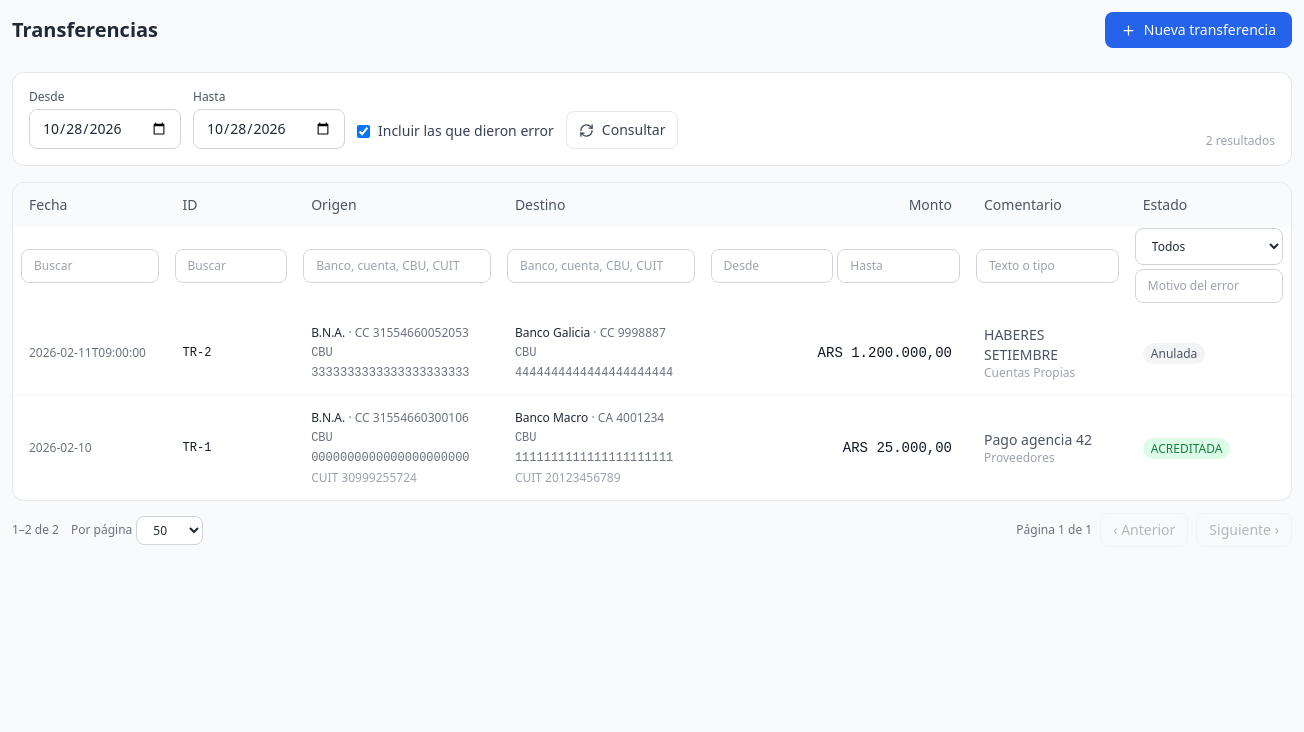
Test: TransferenciasPage — listado › filtros por columna › ID = tr-1 deja sólo TR-1
Check: the text "TR-2" is shown, box 167,311 -> 295,396
Type "tr-1" into the field named "Filtrar ID" at [231, 266], box 175,248 -> 287,282
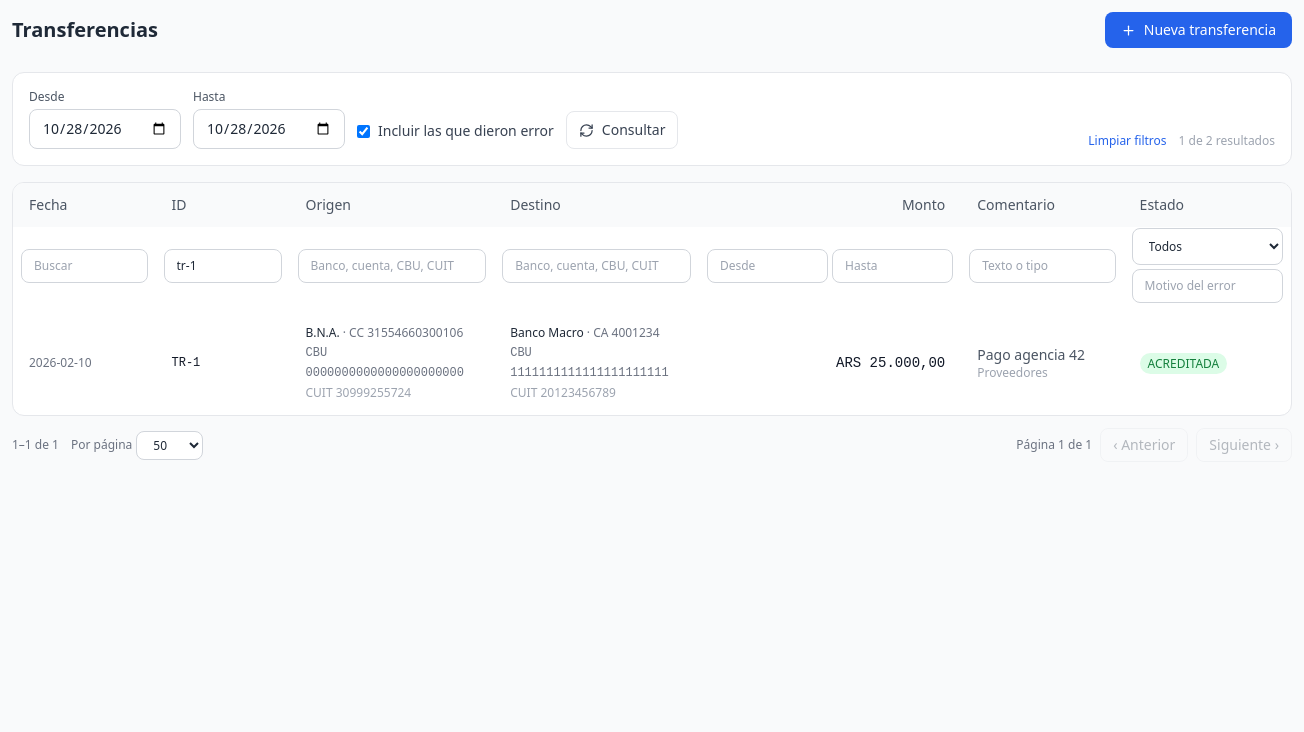
Check: the row that starts with "TR-1" is shown, box 172,356 -> 200,370
Check: the text "1 de 2 resultados" is shown, box 1179,133 -> 1275,149
